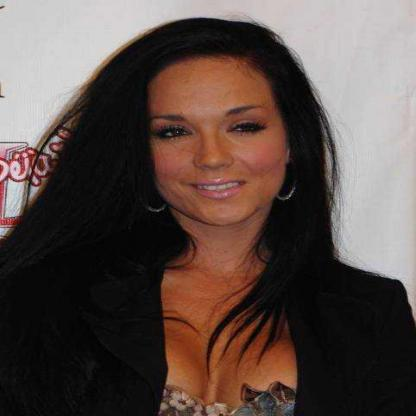long-hair: (34, 224, 366, 278)
